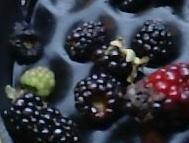berry: (2, 85, 78, 142), (123, 63, 188, 120), (74, 72, 122, 124), (95, 38, 146, 81), (131, 19, 177, 66), (65, 21, 106, 61), (9, 22, 43, 64), (19, 66, 55, 97), (110, 0, 152, 12)
